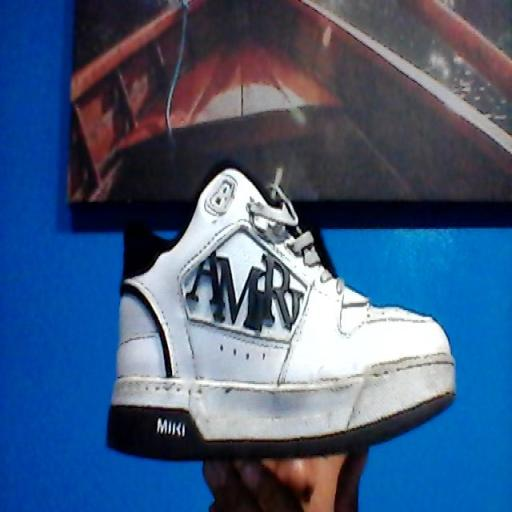shoe: (108, 170, 454, 460)
